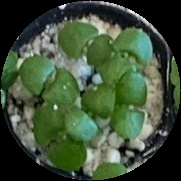Basil: (33, 104, 87, 172), (67, 83, 115, 140), (22, 55, 78, 103), (60, 21, 118, 64), (109, 25, 151, 83), (114, 72, 147, 138)
